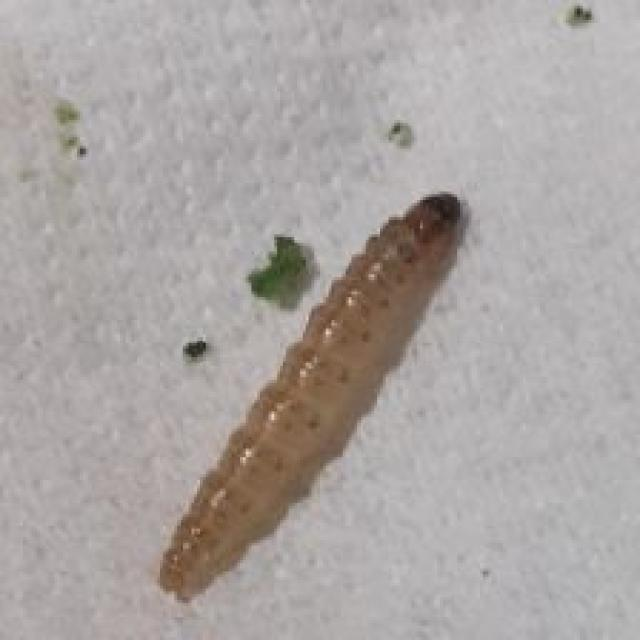white mucus: (137, 169, 567, 601)
